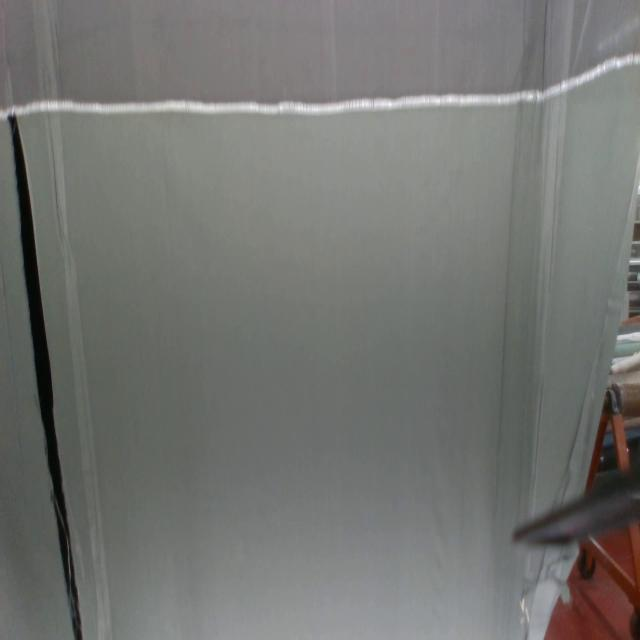crease: (44, 109, 114, 640), (529, 95, 567, 510), (494, 105, 522, 458)
hole: (7, 111, 85, 640)
